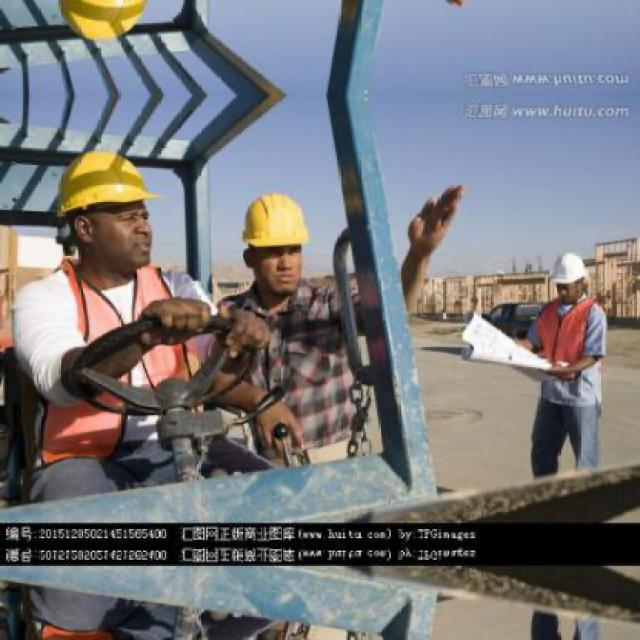Reflective-Jacket: (9, 259, 214, 484), (528, 296, 604, 406)
Safety-Helmet: (42, 142, 165, 227), (229, 184, 322, 264), (541, 247, 594, 293)
